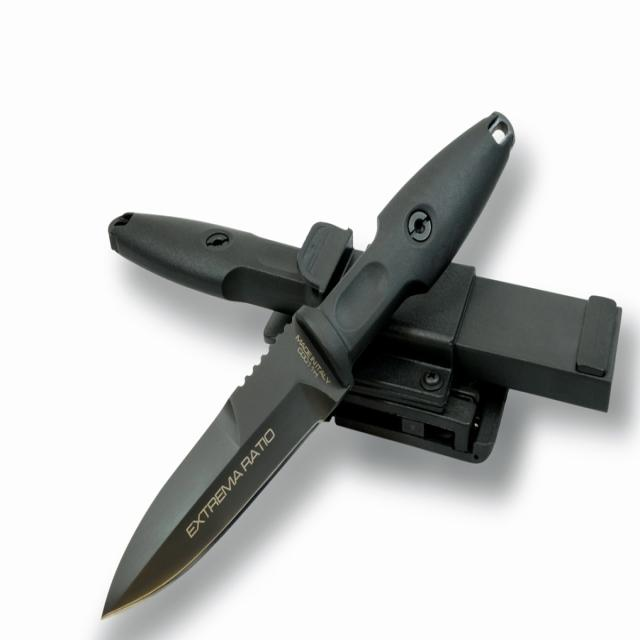knife: (98, 95, 520, 621)
